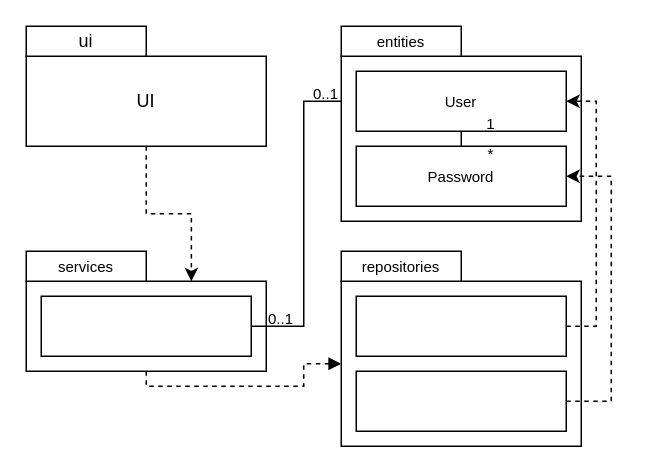
Some shapes in this 650 by 473 pixel diagram are drawn without their labels. Each missing label, with the centre of its shape:
PasswordRepository: point 460,400
UserRepository: point 460,325
UserService: point 145,325
